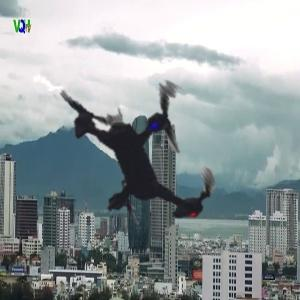drone: (8, 17, 281, 290)
